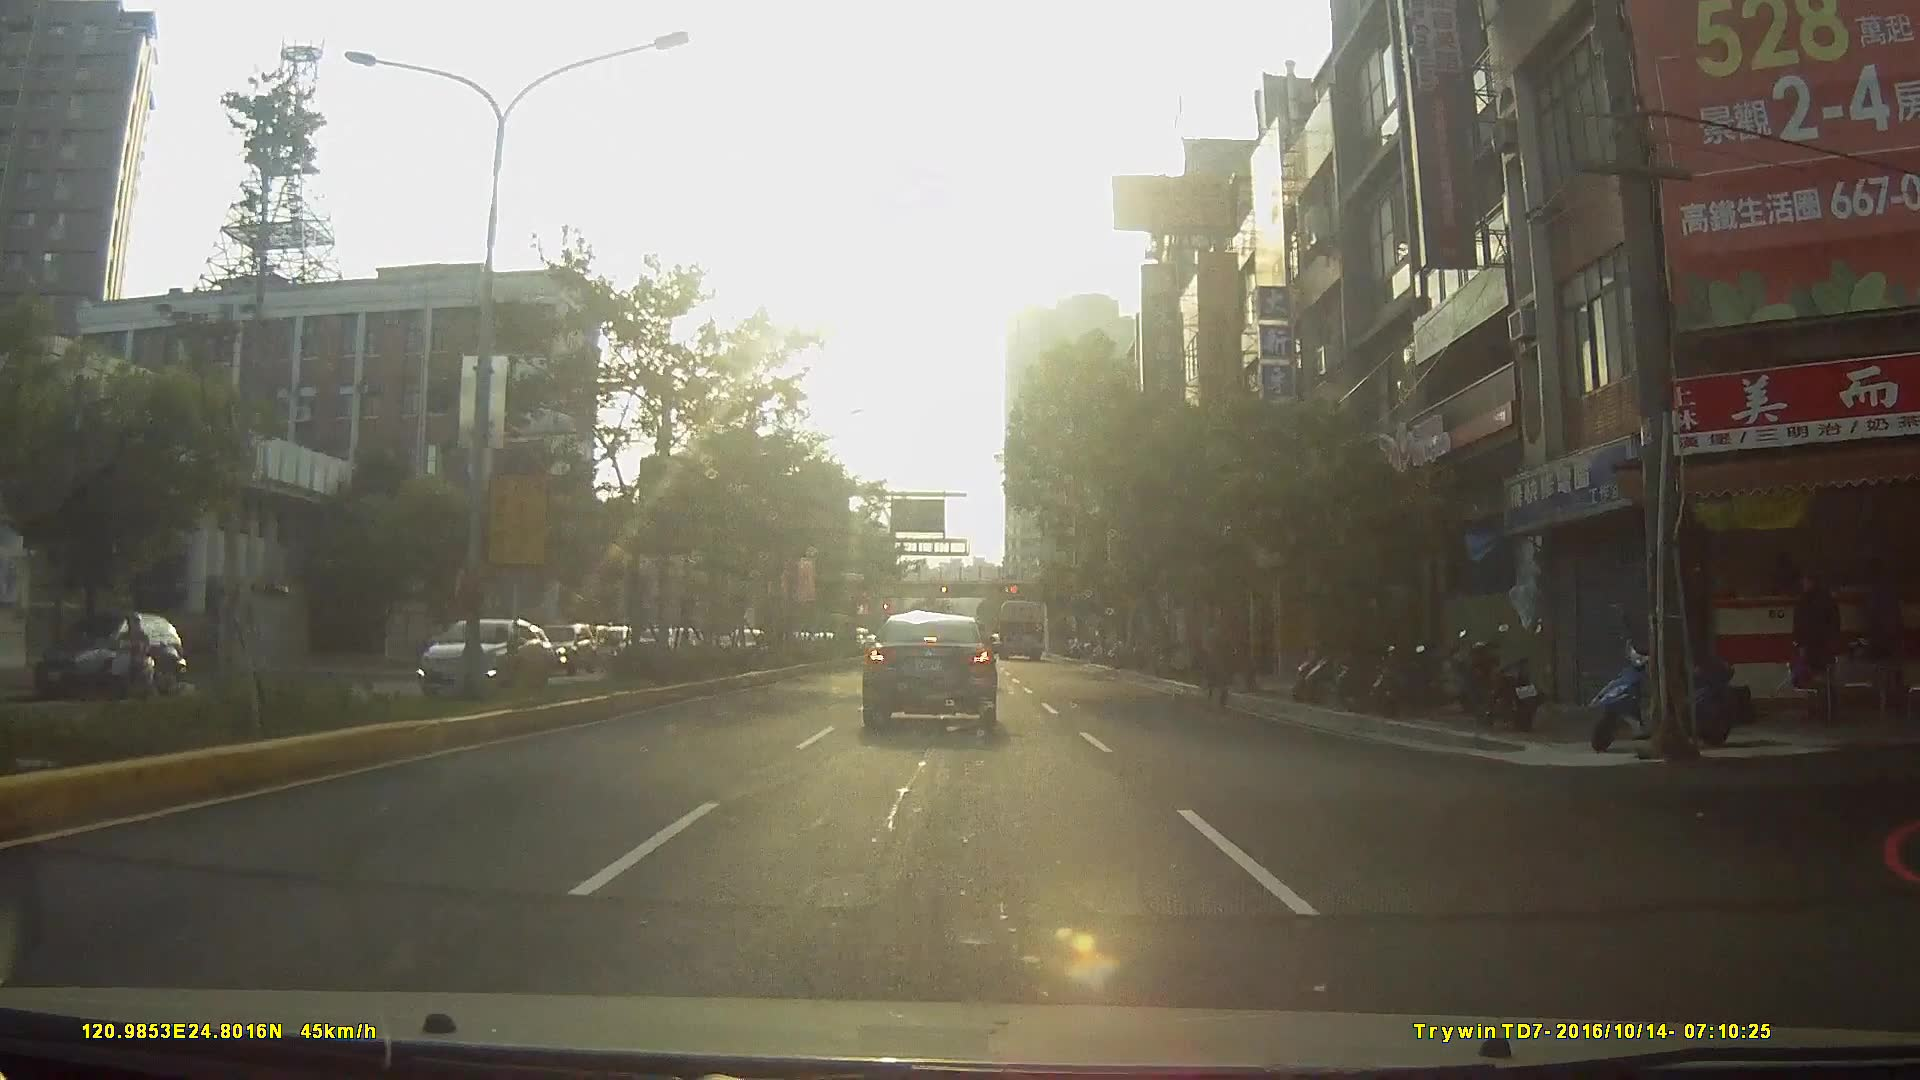pedestrian: (1196, 608, 1237, 713)
rider: (102, 611, 164, 709)
vehicle: (858, 610, 998, 730), (22, 609, 179, 701), (411, 607, 547, 704), (532, 626, 602, 680), (992, 597, 1043, 662), (472, 622, 535, 673)
